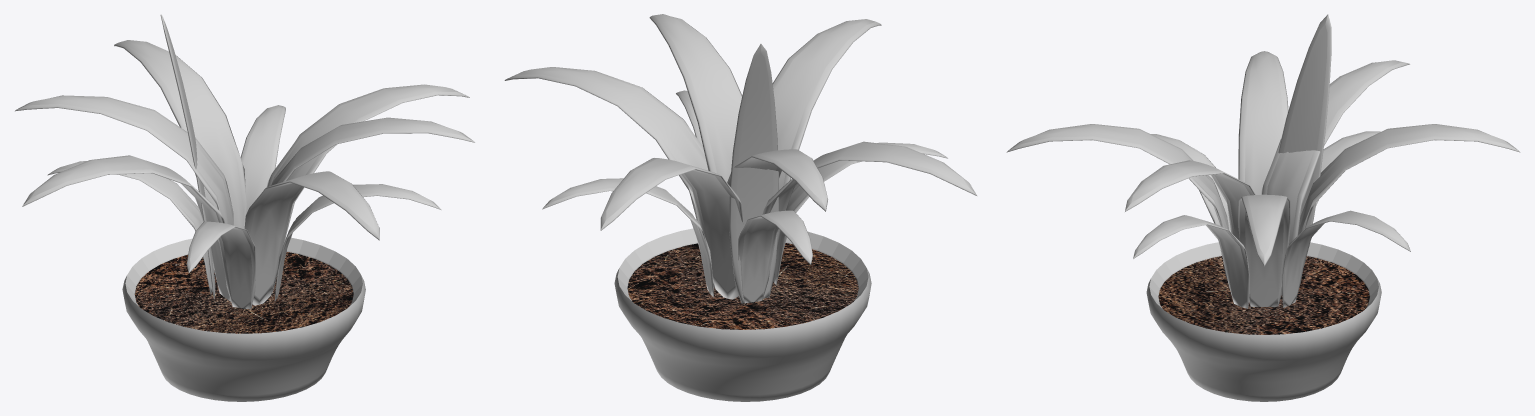
File: Plant_Pot.FBX
3 views of the same model, side by side, from view 1: azimuth 30°, elevation 25°; view 2: azimuth 150°, elevation 25°; view 3: azimuth 270°, elevation 25° (orthographic). The views are drawn at different scales.
Parts seen in each view (by area): view 1: Cylinder001, Cylinder002, Box005, Box006, Box012, Box003, Box004, Box010, Box011, Box009, Box008, Box007 (+1 smaller); view 2: Cylinder001, Cylinder002, Box013, Box011, Box005, Box006, Box003, Box008, Box004, Box012, Box009, Box010 (+1 smaller); view 3: Cylinder001, Cylinder002, Box004, Box013, Box003, Box012, Box005, Box006, Box007, Box011, Box009, Box010 (+1 smaller).
Boxes of the visible parts, x1=… form: Cylinder001: x1=122, y1=236, x2=365, y2=401; Cylinder002: x1=134, y1=252, x2=353, y2=333; Box005: x1=114, y1=40, x2=246, y2=228; Box006: x1=244, y1=171, x2=379, y2=305; Box012: x1=15, y1=95, x2=233, y2=225; Box003: x1=266, y1=84, x2=469, y2=293; Box004: x1=22, y1=155, x2=230, y2=301; Box010: x1=186, y1=221, x2=255, y2=309; Box011: x1=270, y1=117, x2=474, y2=185; Box009: x1=240, y1=105, x2=285, y2=212; Box008: x1=47, y1=161, x2=212, y2=294; Box007: x1=274, y1=184, x2=441, y2=301; Cylinder001: x1=614, y1=228, x2=871, y2=401; Cylinder002: x1=627, y1=243, x2=858, y2=329; Box013: x1=729, y1=44, x2=779, y2=303; Box011: x1=649, y1=14, x2=742, y2=182; Box005: x1=600, y1=158, x2=743, y2=299; Box006: x1=772, y1=19, x2=881, y2=189; Box003: x1=504, y1=67, x2=714, y2=287; Box008: x1=738, y1=210, x2=812, y2=303; Box004: x1=762, y1=141, x2=976, y2=251; Box012: x1=727, y1=149, x2=827, y2=211; Box009: x1=542, y1=178, x2=713, y2=297; Box010: x1=773, y1=142, x2=947, y2=285; Cylinder001: x1=1146, y1=242, x2=1381, y2=401; Cylinder002: x1=1158, y1=256, x2=1369, y2=334; Box004: x1=1238, y1=51, x2=1288, y2=194; Box013: x1=1278, y1=14, x2=1331, y2=228; Box003: x1=1238, y1=194, x2=1290, y2=306; Box012: x1=1261, y1=60, x2=1409, y2=295; Box005: x1=1297, y1=124, x2=1520, y2=235; Box006: x1=1006, y1=124, x2=1229, y2=230; Box007: x1=1133, y1=215, x2=1249, y2=308; Box011: x1=1125, y1=160, x2=1255, y2=240; Box009: x1=1281, y1=210, x2=1410, y2=307; Box010: x1=1151, y1=134, x2=1230, y2=281.
Size of the model in its own units: 157 by 117 by 162.
